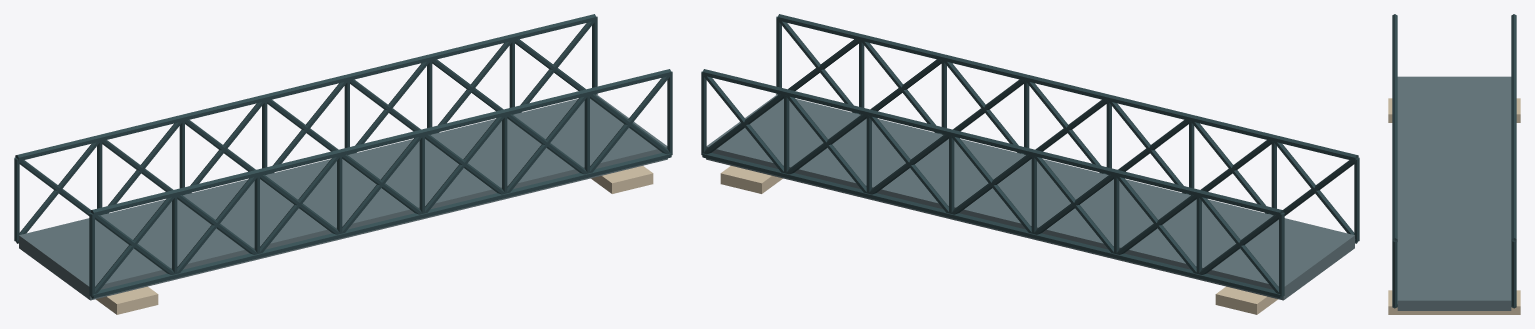
File: garden-bridge.glb
3 renders of one model, left to right at view 1: azimuth 30°, elevation 25°; view 2: azimuth 150°, elevation 25°; view 3: azimuth 270°, elevation 25°, orthographic. The views are drawn at different scales.
Parts seen in each view (by area): view 1: garden-bridge; view 2: garden-bridge; view 3: garden-bridge.
Boxes of the visible parts, x1,y1,x2,y2 form: garden-bridge: [14, 14, 672, 314]; garden-bridge: [701, 14, 1359, 314]; garden-bridge: [1388, 14, 1520, 314].
Size of the model in its own units: 28.26 by 4.96 by 7.
